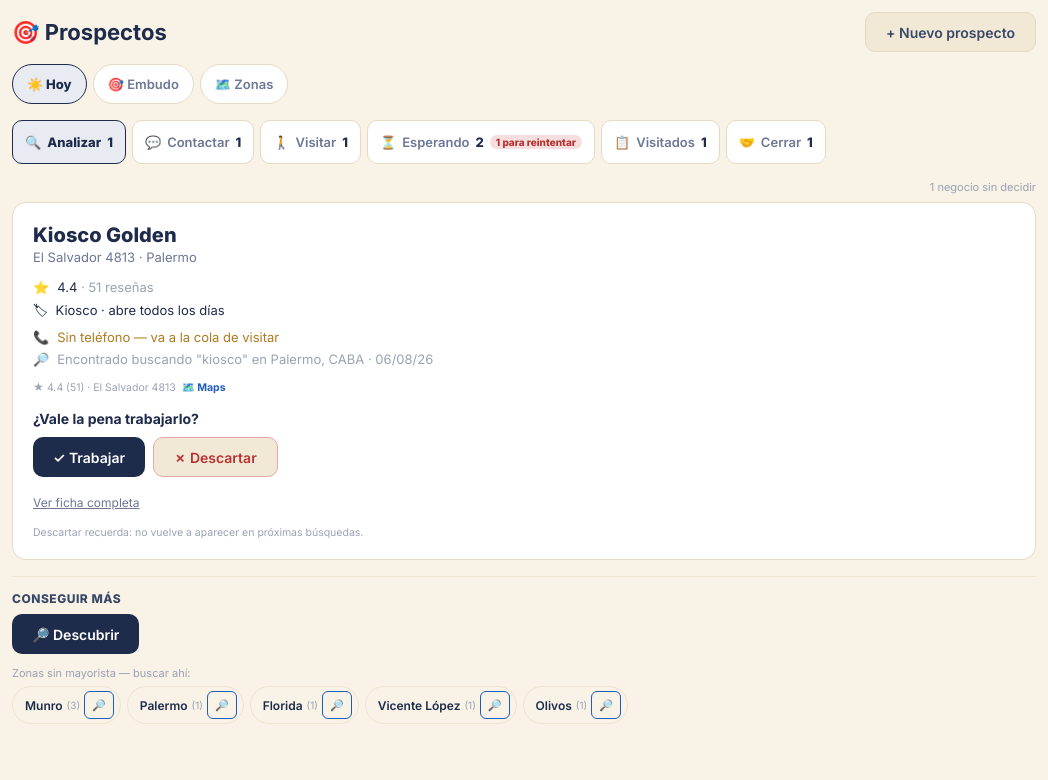
Scenario: Prospectos — colas de ejecución: misma gramática, acción primaria propia › 🚶 Visitar ofrece registrar la visita
Click the button "🚶 Visitar 1": click(311, 142) top-left (260, 120), bottom-right (361, 164)
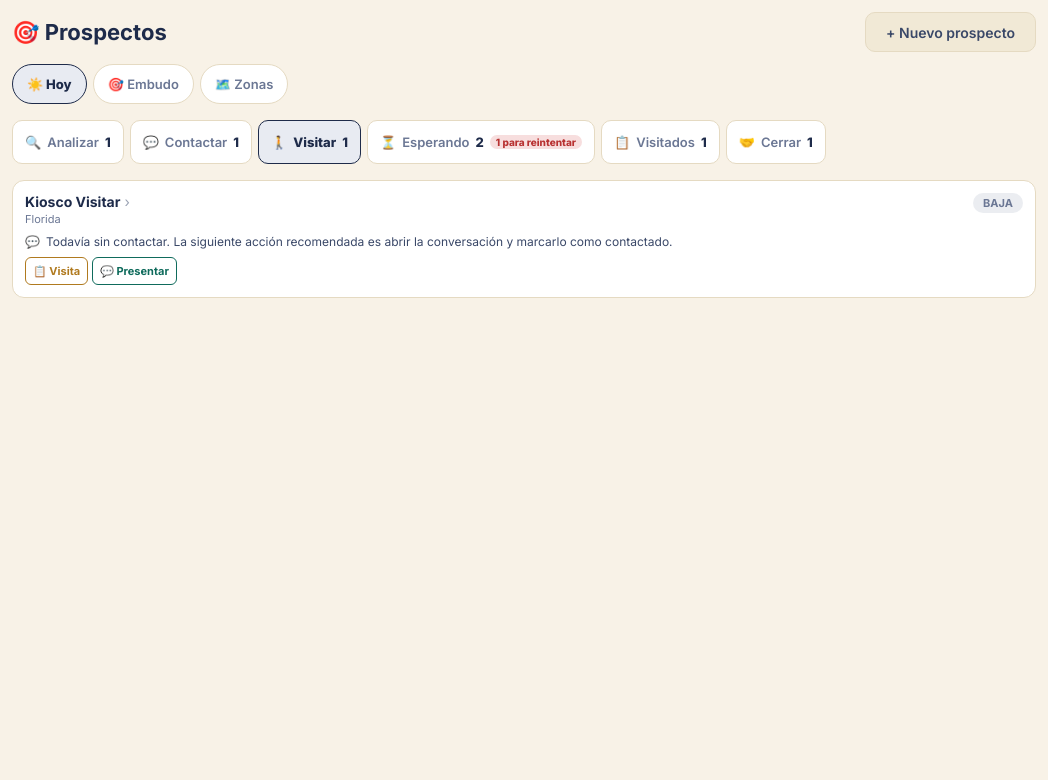
Check: the text "Kiosco Visitar ›" is shown, box top-left (25, 193), bottom-right (130, 210)
Check: the button "📋 Visita" is shown, box top-left (25, 257), bottom-right (88, 285)
